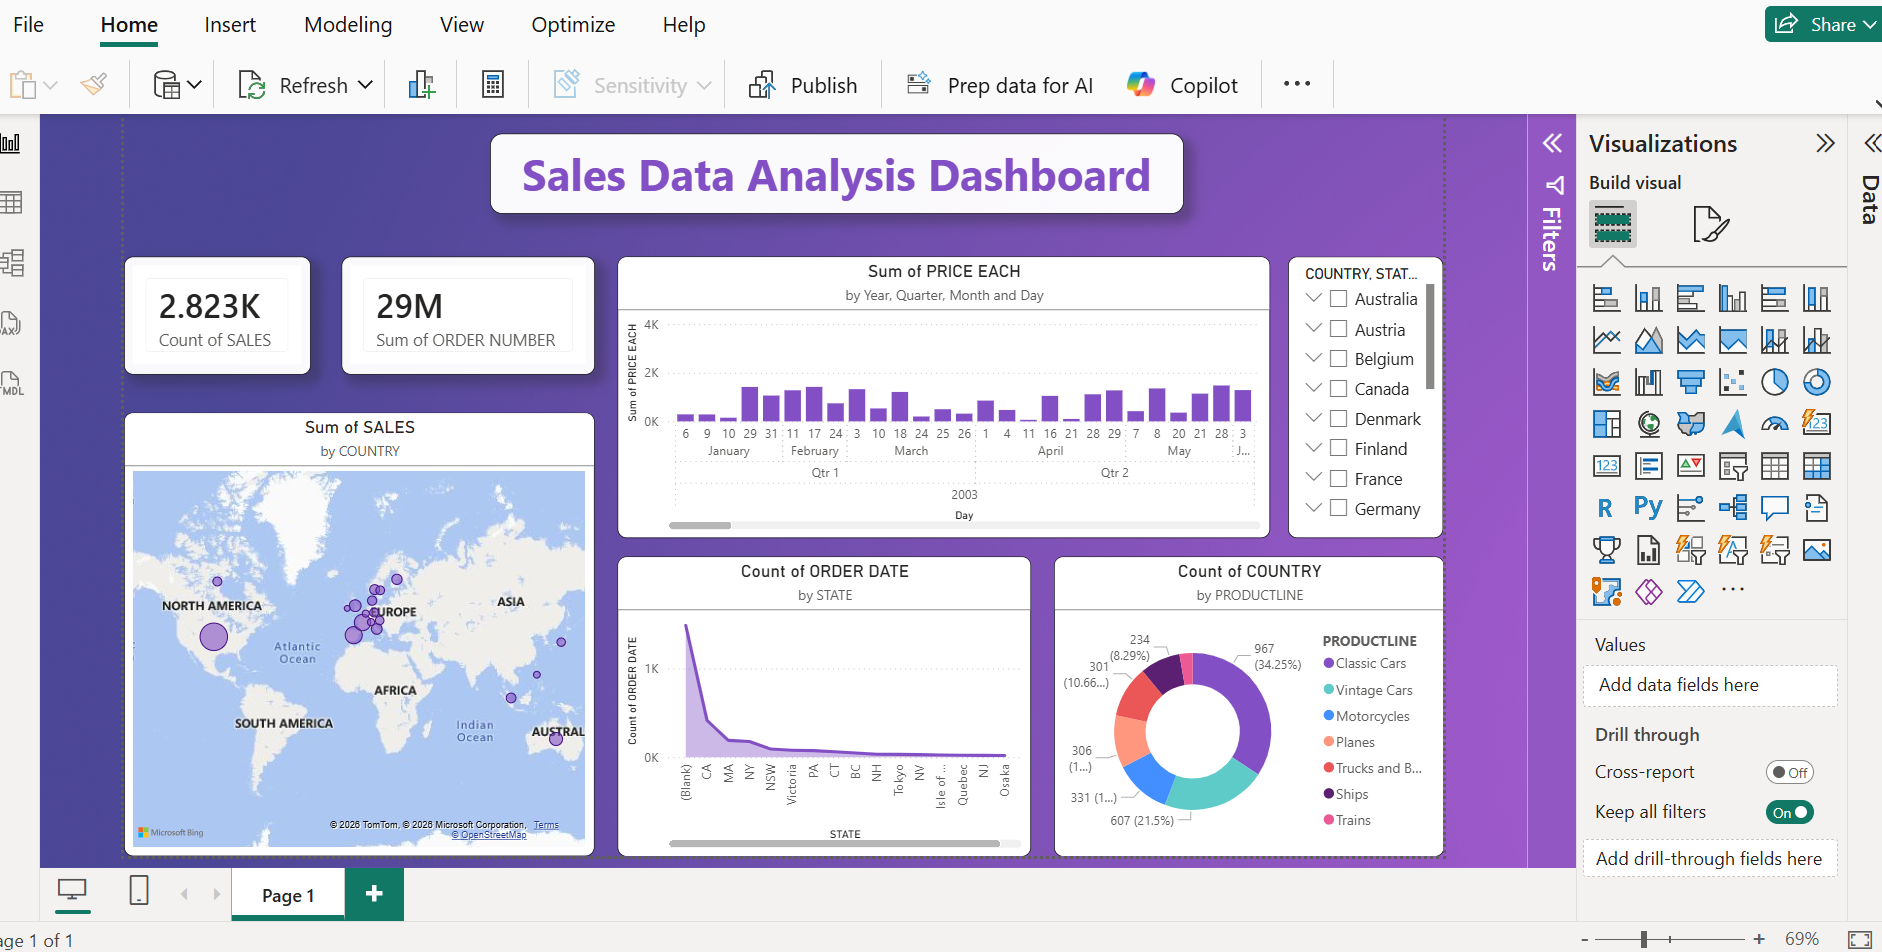

This screenshot's page, from the dashboard's own definition file:
{"tool":"powerbi","page":{"name":"Page 1","canvas":[1280,720],"ordinal":0},"visuals":[{"type":"textbox","box":[354.6,19.4,673.6,77.7],"z":0},{"type":"cardVisual","fields":{"Data":["CountNonNull(sales_data_sample.SALES)"]},"box":[0,137.6,181.4,115],"z":1000},{"type":"cardVisual","fields":{"Data":["Sum(sales_data_sample.ORDER NUMBER)"]},"box":[210.5,137.6,246.1,115],"z":2000},{"type":"map","fields":{"Category":["sales_data_sample.COUNTRY"],"Size":["Sum(sales_data_sample.SALES)"]},"box":[0,289.8,456.6,430.7],"z":3000},{"type":"areaChart","fields":{"Category":["sales_data_sample.STATE"],"Y":["CountNonNull(sales_data_sample.ORDER DATE)"]},"box":[479.3,429.1,401.6,291.5],"z":4000},{"type":"donutChart","fields":{"Category":["sales_data_sample.PRODUCTLINE"],"Y":["CountNonNull(sales_data_sample.COUNTRY)"]},"box":[901.9,429.1,378.9,291.5],"z":5000},{"type":"columnChart","fields":{"Y":["Sum(sales_data_sample.PRICE EACH)"],"Category":["sales_data_sample.ORDER DATE.Variation.Date Hierarchy.Year","sales_data_sample.ORDER DATE.Variation.Date Hierarchy.Quarter","sales_data_sample.ORDER DATE.Variation.Date Hierarchy.Month","sales_data_sample.ORDER DATE.Variation.Date Hierarchy.Day"]},"box":[479.3,137.6,633.1,273.6],"z":6000},{"type":"slicer","fields":{"Values":["sales_data_sample.COUNTRY","sales_data_sample.STATE","sales_data_sample.CITY"]},"box":[1130.2,137.6,150.6,273.6],"z":7000}]}

Visuals, with their boxes on the page's 1280x720 design canvas (x1, y1, x2, y2). These are canvas units, not pixel positions in the 1882x952 screenshot, which may show the page scaled, cropped or inside an application window:
textbox: pyautogui.locateOnScreen(355, 19, 1028, 97)
cardVisual - CountNonNull(sales_data_sample.SALES): pyautogui.locateOnScreen(0, 138, 181, 253)
cardVisual - Sum(sales_data_sample.ORDER NUMBER): pyautogui.locateOnScreen(210, 138, 457, 253)
map - sales_data_sample.COUNTRY x Sum(sales_data_sample.SALES): pyautogui.locateOnScreen(0, 290, 457, 720)
areaChart - sales_data_sample.STATE x CountNonNull(sales_data_sample.ORDER DATE): pyautogui.locateOnScreen(479, 429, 881, 721)
donutChart - sales_data_sample.PRODUCTLINE x CountNonNull(sales_data_sample.COUNTRY): pyautogui.locateOnScreen(902, 429, 1281, 721)
columnChart - Sum(sales_data_sample.PRICE EACH) x sales_data_sample.ORDER DATE.Variation.Date Hierarchy.Year: pyautogui.locateOnScreen(479, 138, 1112, 411)
slicer - sales_data_sample.COUNTRY x sales_data_sample.STATE: pyautogui.locateOnScreen(1130, 138, 1281, 411)
